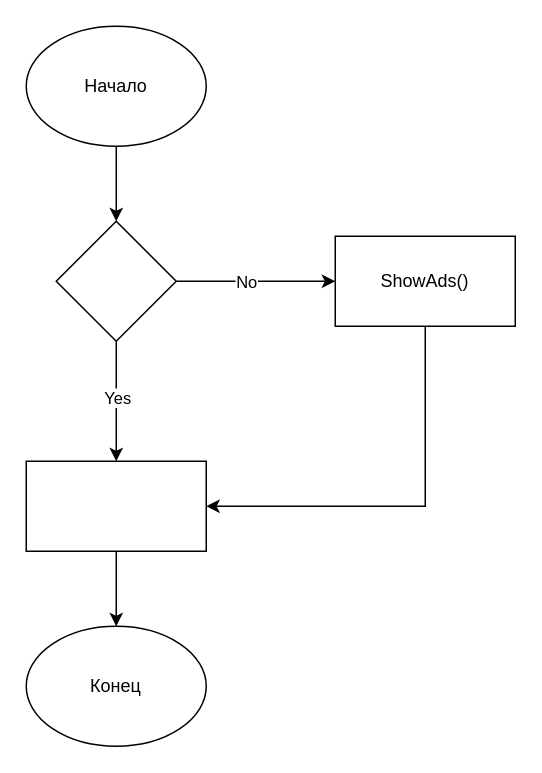
Some shapes in this 542 by 773 pixel diagram are drawn without their labels. Here are the shapes that lost their labels. From the top down, the box of each, then its label:
(55, 220, 176, 341): IsPremium?
(25, 460, 206, 551): Greeting()
